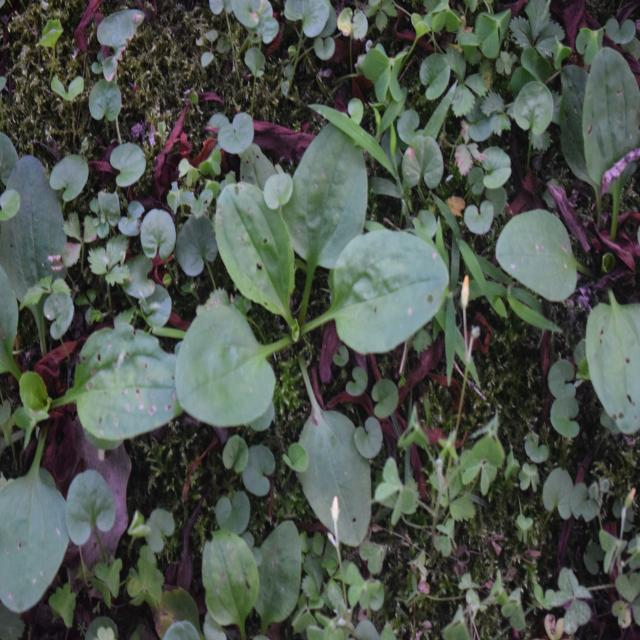plantain: (183, 132, 456, 522)
